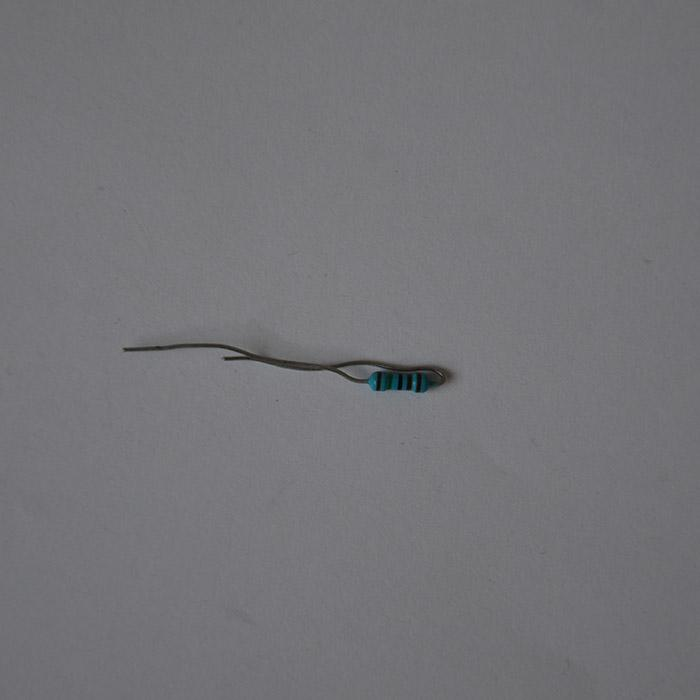resistor: (365, 370, 434, 393)
